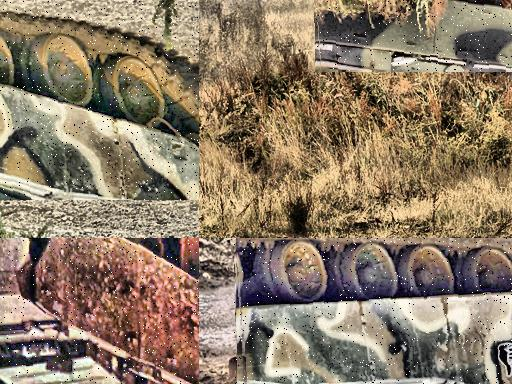tanks: (236, 239, 512, 384), (1, 13, 200, 201), (1, 239, 200, 384), (318, 1, 512, 72)
